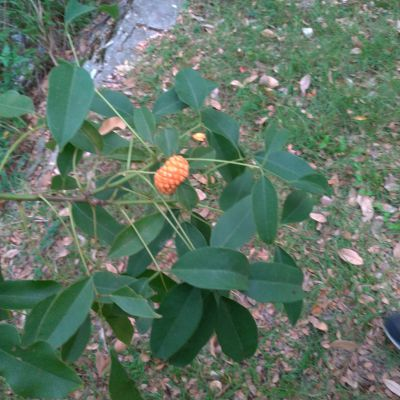eggs: (150, 151, 192, 194)
